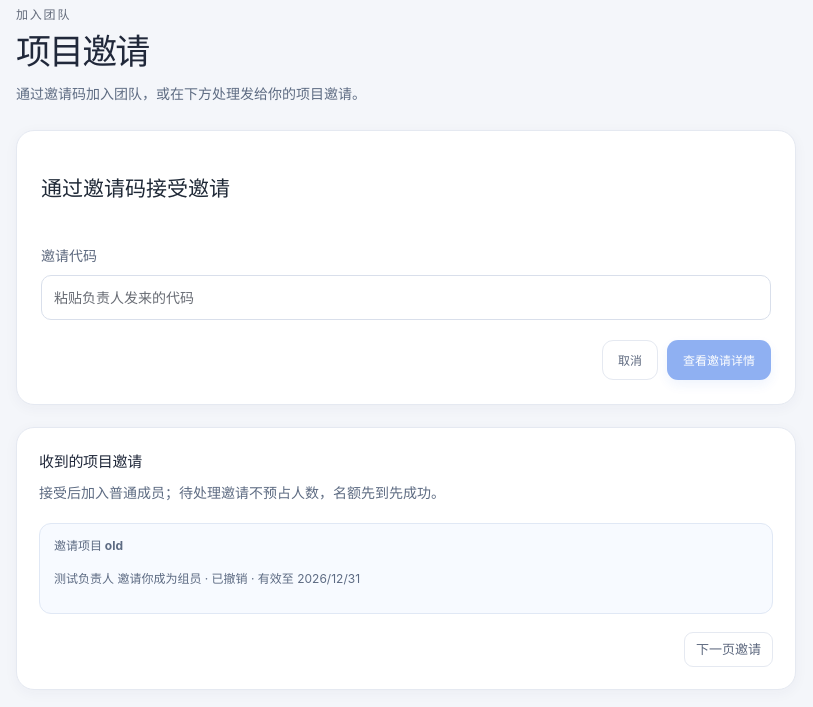
Test: retains inbox pagination and inactive invitation statuses
The width and height of the screenshot is (813, 707).
(page scrolled)
Expected: the text "测试负责人 邀请你成为组员 · 已撤销 · 有效至 2026/12/31" is shown, top-left (54, 571), bottom-right (360, 586)
Click the button "下一页邀请" at (728, 650), box top-left (684, 632), bottom-right (773, 667)
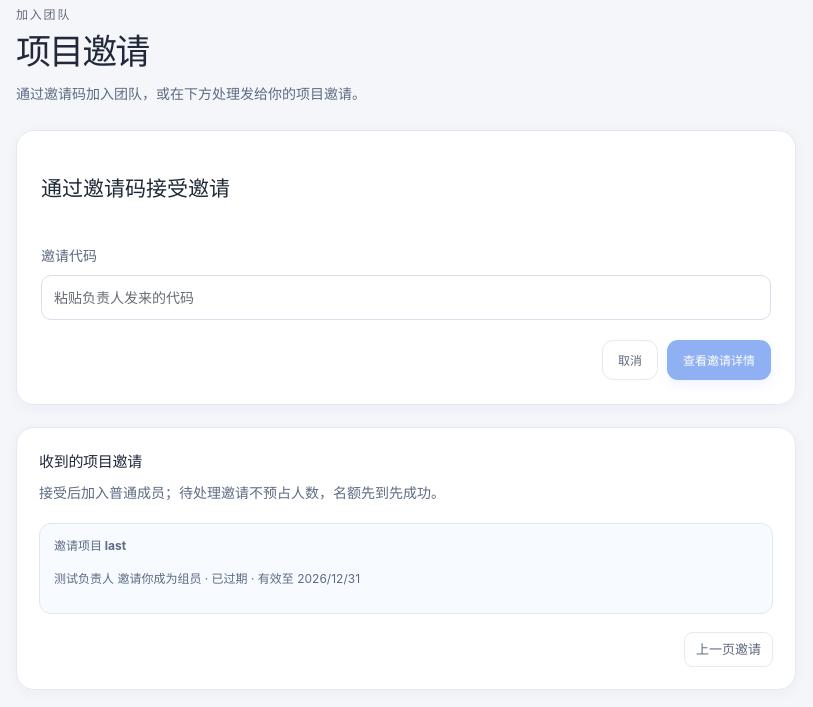
Expected: the text "测试负责人 邀请你成为组员 · 已过期 · 有效至 2026/12/31" is shown, top-left (54, 571), bottom-right (360, 586)
Expected: the button "下一页邀请" is gone
Click the button "上一页邀请" at (728, 650), box top-left (684, 632), bottom-right (773, 667)
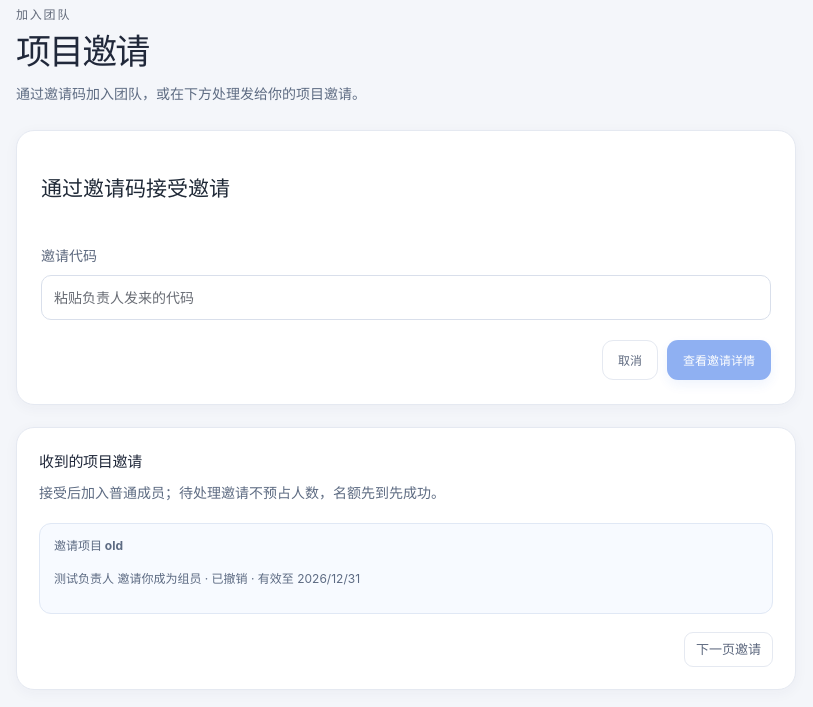
Expected: the text "邀请项目 old" is shown, top-left (54, 538), bottom-right (123, 553)
